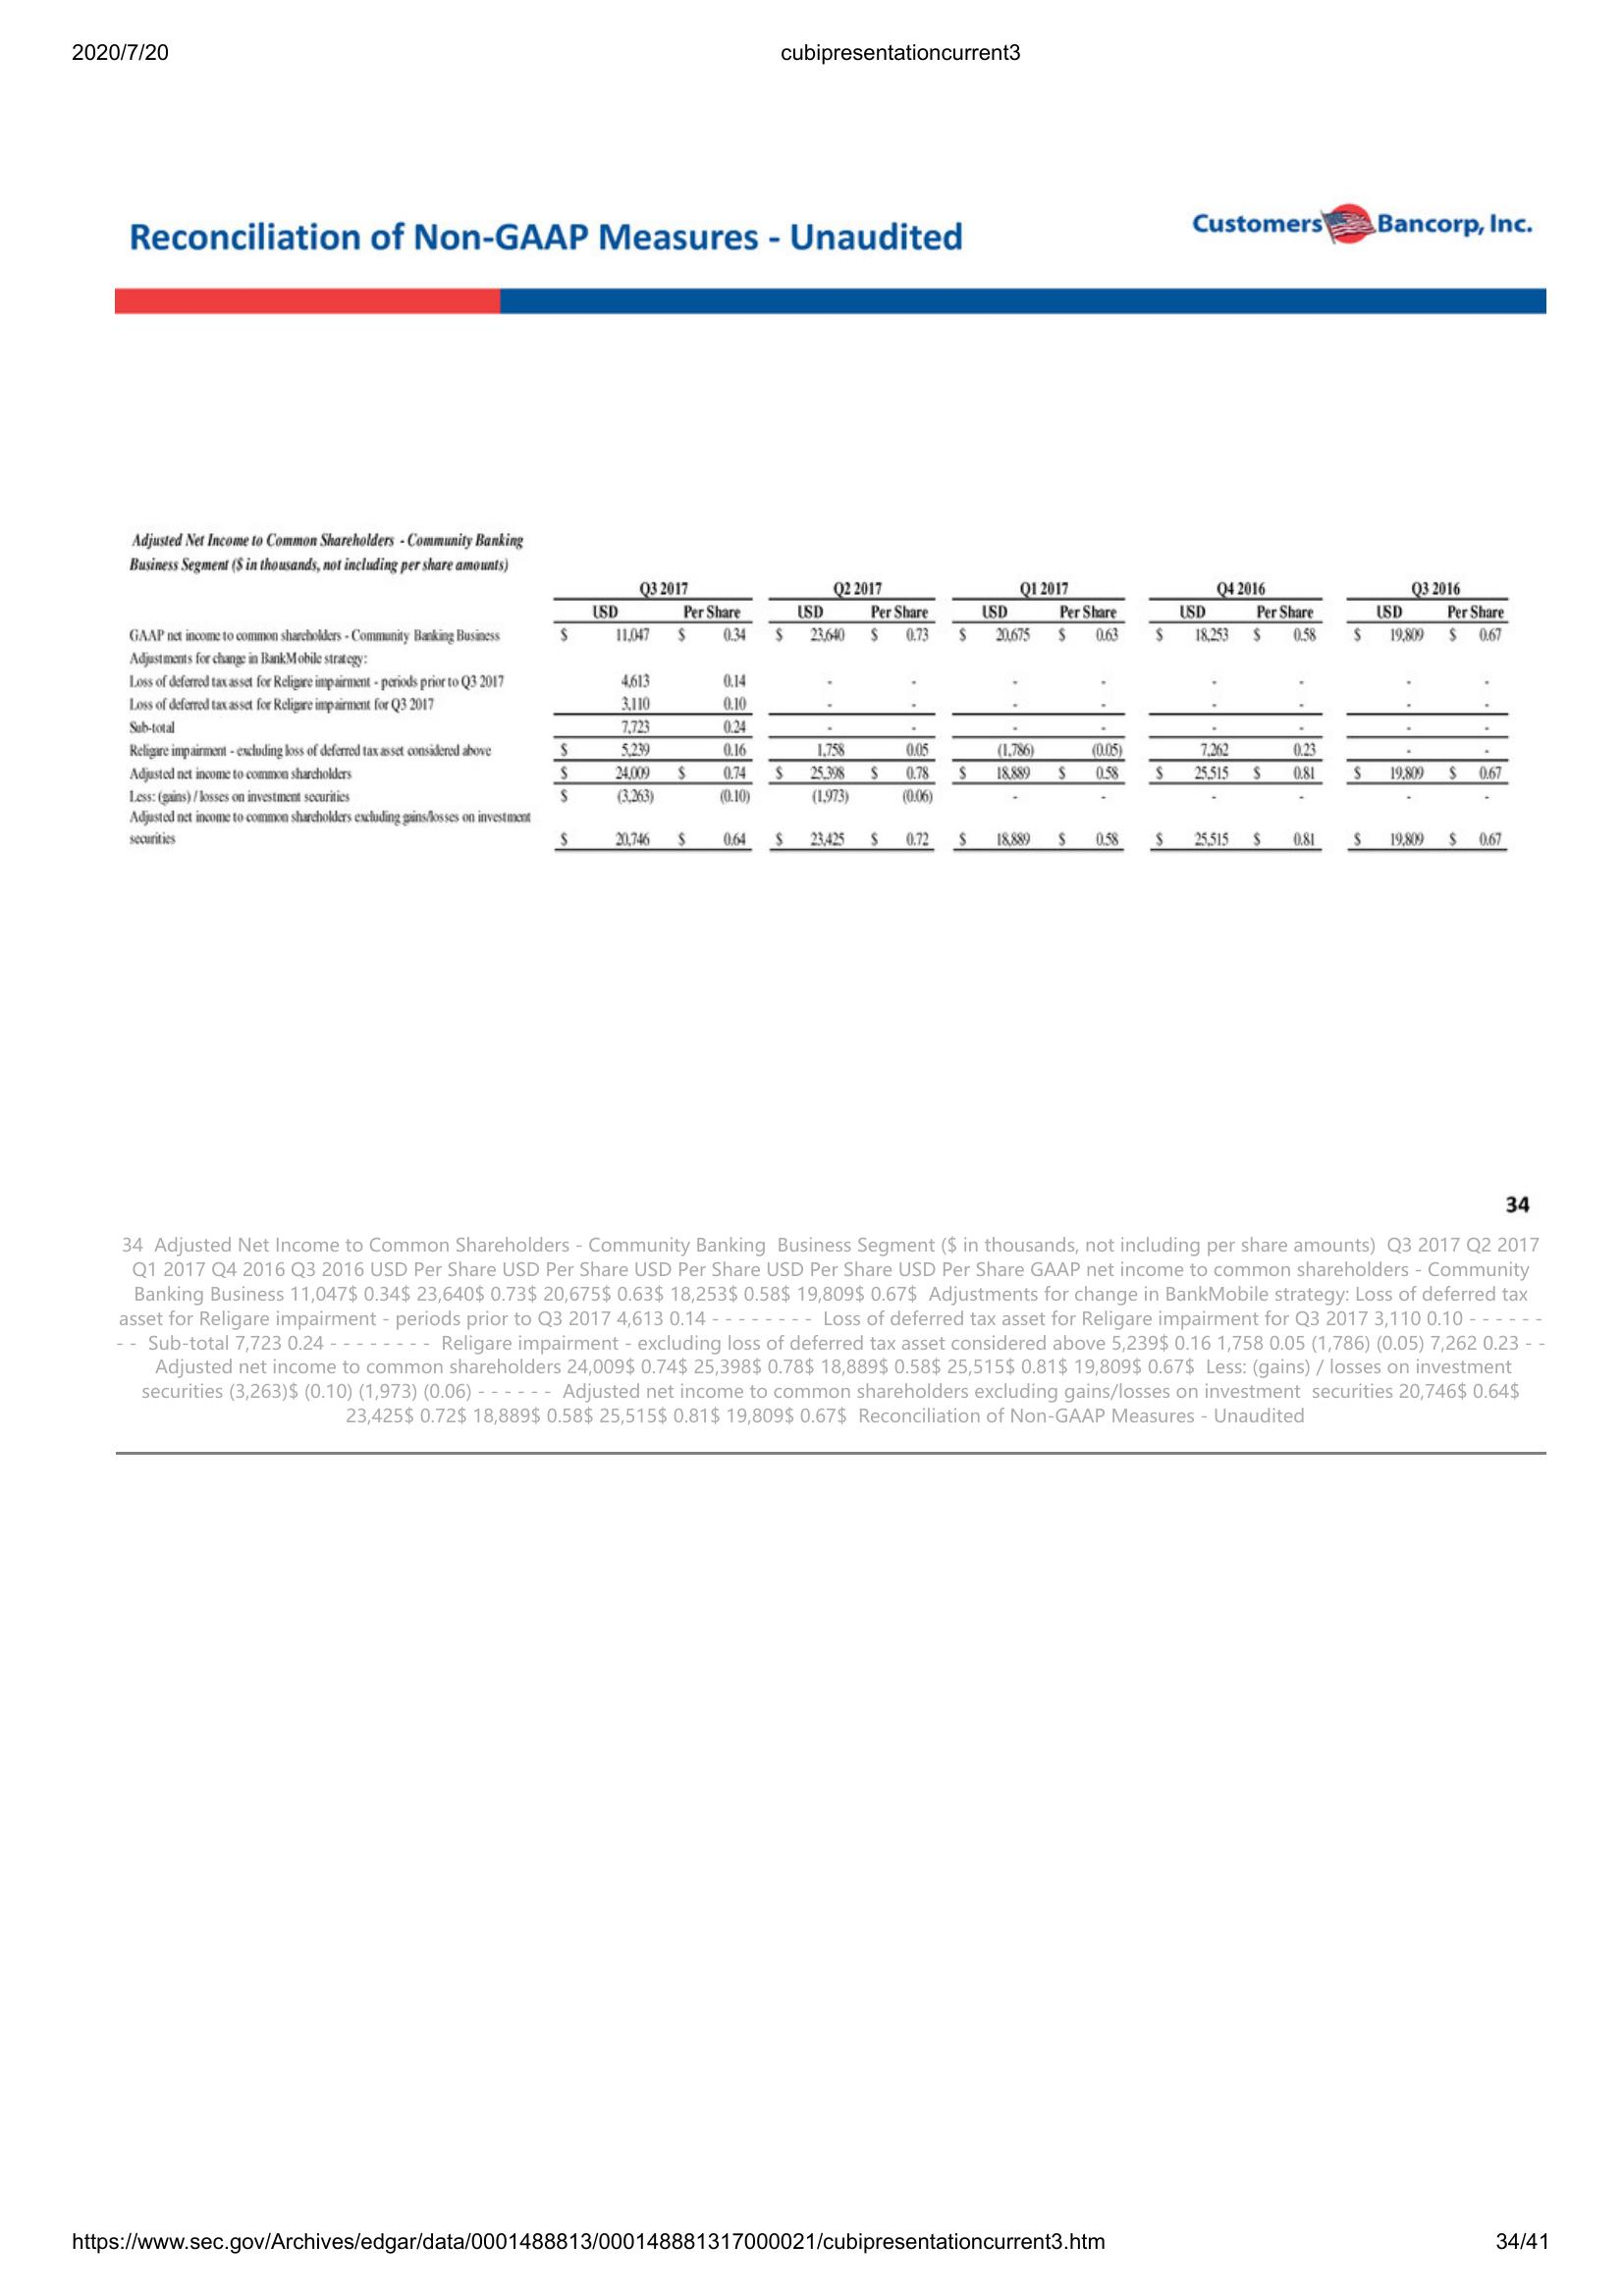table: (119, 527, 1523, 857)
